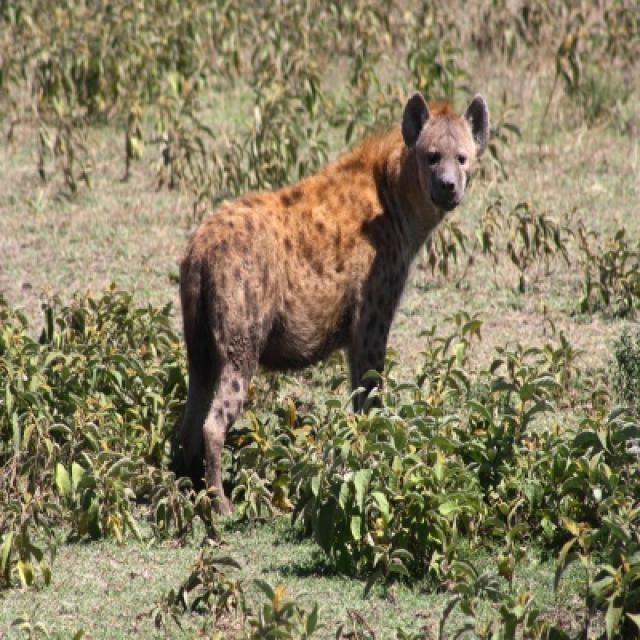hyena: (170, 94, 491, 515)
